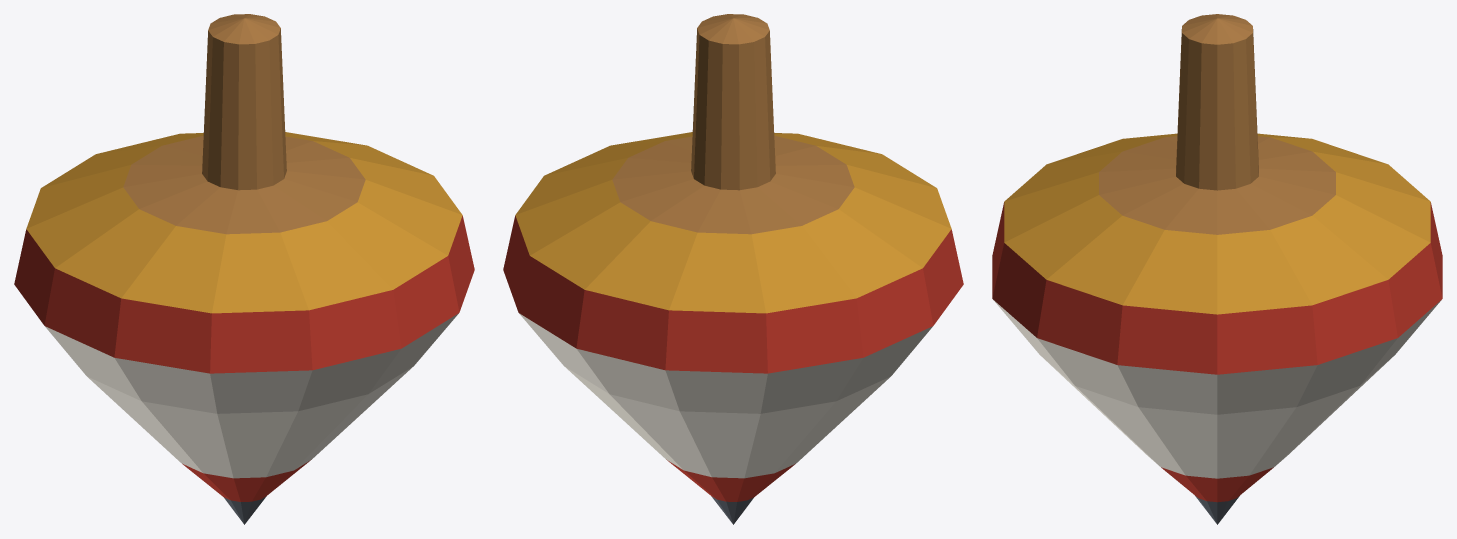
Rendered from SpinTop.fbx.
3 renders of one model, left to right at view 1: azimuth 30°, elevation 25°; view 2: azimuth 150°, elevation 25°; view 3: azimuth 270°, elevation 25°, orthographic.
Parts seen in each view (by area): view 1: Top; view 2: Top; view 3: Top.
Part boxes in pixels (left/top/right/bottom): Top: left=14, top=14, right=474, bottom=524; Top: left=503, top=14, right=963, bottom=524; Top: left=992, top=14, right=1442, bottom=524.
Size of the model in its own units: 0.076 by 0.092 by 0.0741.
